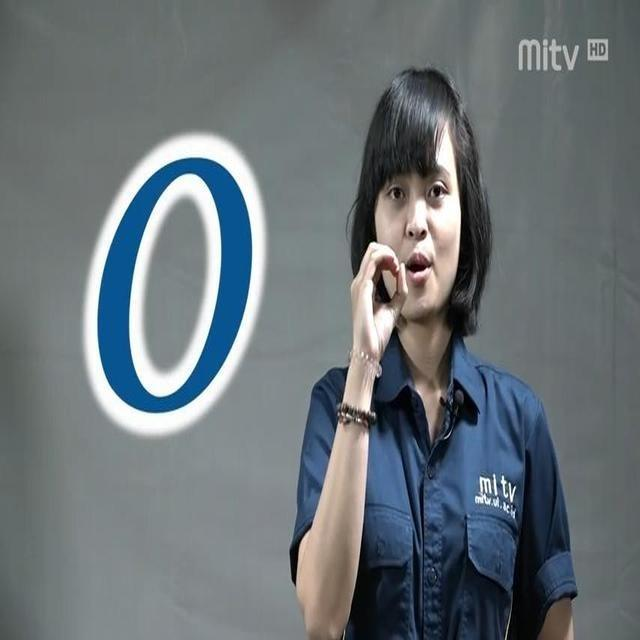O: (344, 233, 411, 359)
